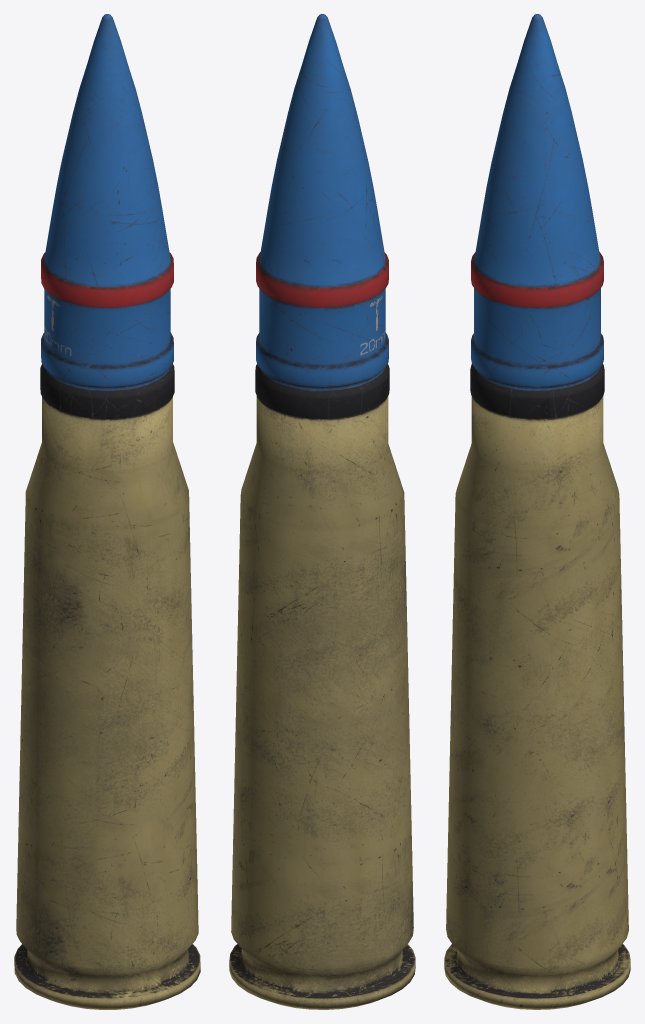
Rendered from 20mmAmmo.fbx.
3 views of the same model, side by side, from view 1: azimuth 30°, elevation 25°; view 2: azimuth 150°, elevation 25°; view 3: azimuth 270°, elevation 25° (orthographic).
Visible parts, largest first — view 1: 20mm_low.005; view 2: 20mm_low.005; view 3: 20mm_low.005.
Boxes of the visible parts, bbox=[...] form: 20mm_low.005: bbox=[14, 14, 200, 1009]; 20mm_low.005: bbox=[229, 14, 415, 1009]; 20mm_low.005: bbox=[444, 14, 630, 1009].
Bounding box in the file's own units: 75.4 × 429 × 75.4.
